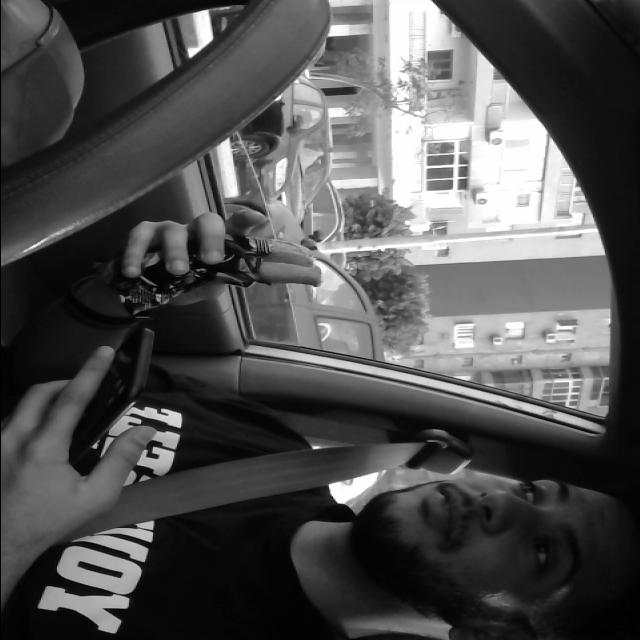eating: (101, 239, 325, 298)
